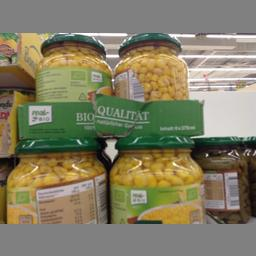corn: (104, 136, 205, 224), (6, 138, 106, 222), (111, 32, 191, 99), (36, 33, 110, 96)
